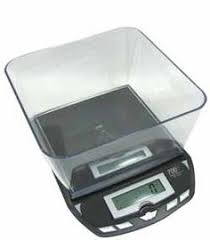Industrial Scale: (4, 25, 209, 240)
